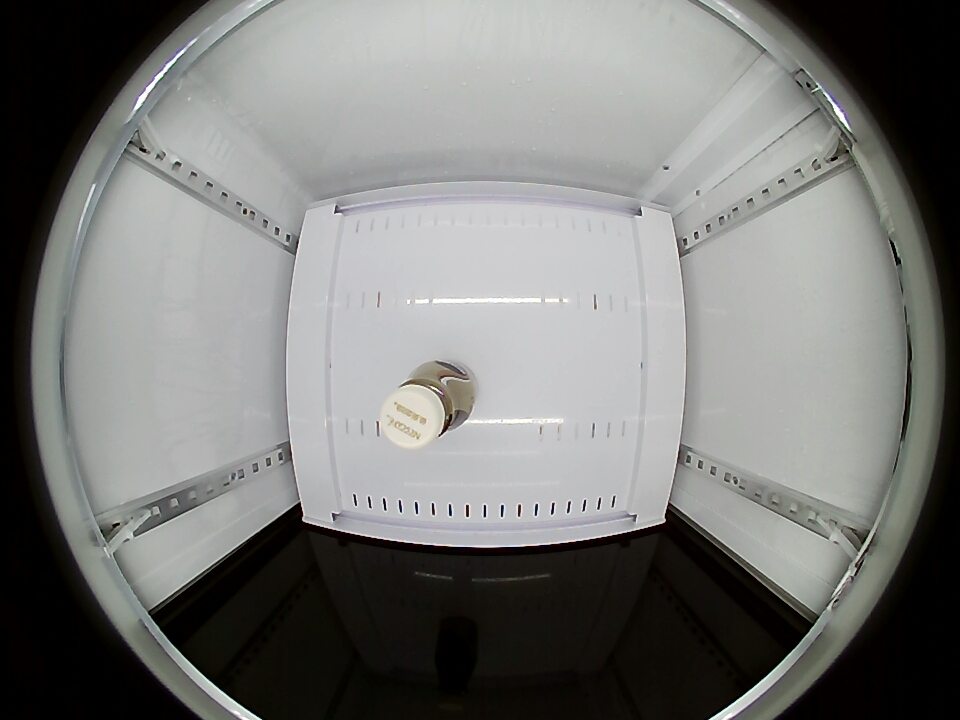kafei: (381, 361, 474, 449)
